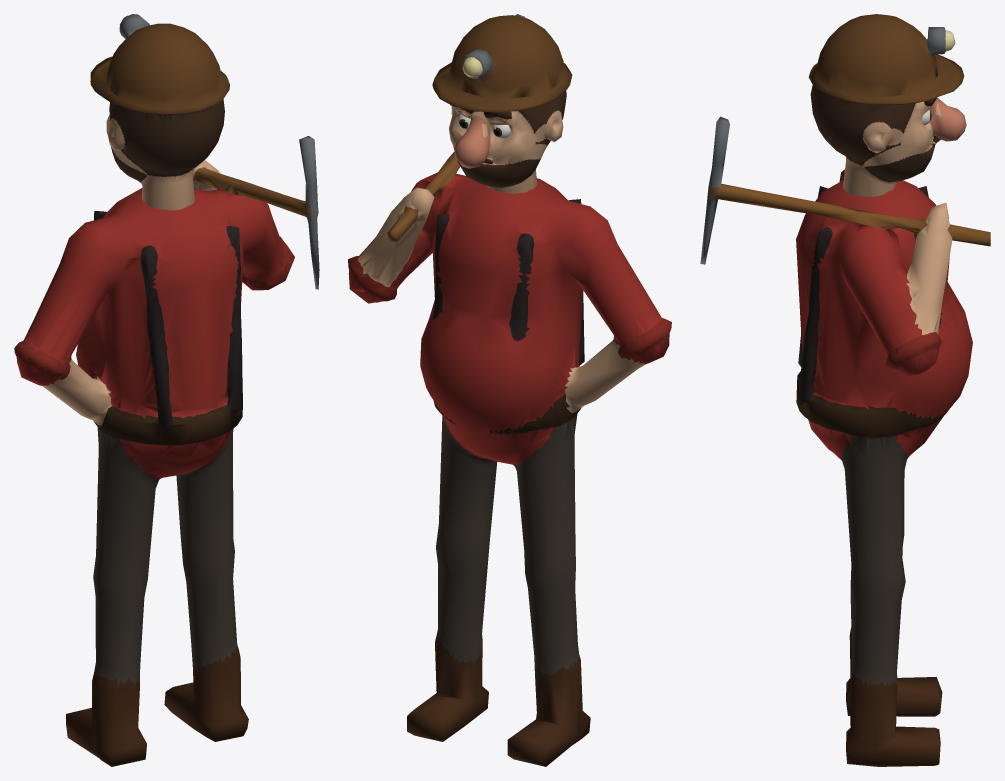
The model's file is morten.glb.
3 views of the same model, side by side, from view 1: azimuth 30°, elevation 25°; view 2: azimuth 150°, elevation 25°; view 3: azimuth 270°, elevation 25° (orthographic).
Visible parts, largest first — view 1: body_lod0, head_lod0; view 2: body_lod0, head_lod0; view 3: body_lod0, head_lod0.
Boxes of the visible parts, x1,y1,x2,y2 form: body_lod0: (14,136,319,766); head_lod0: (90,14,229,210); body_lod0: (348,14,671,766); head_lod0: (432,15,572,193); body_lod0: (700,116,990,766); head_lod0: (808,14,966,196).
Size of what is drawn, in the model's own units: 0.84 by 1.96 by 0.717.
